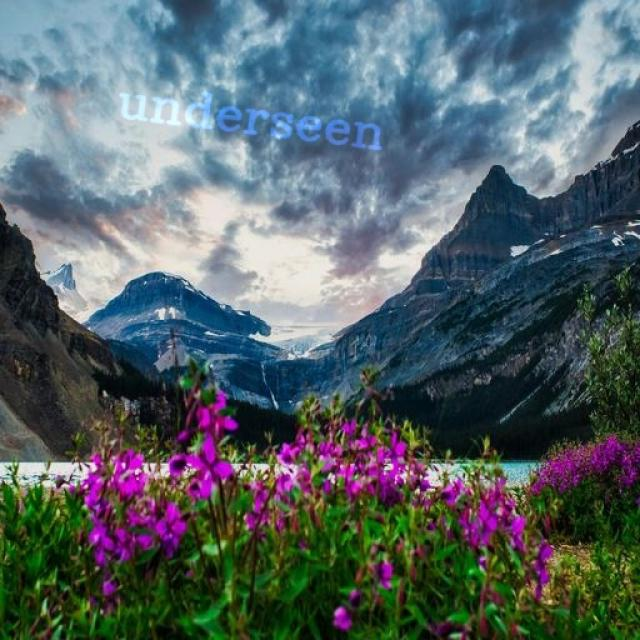watermark: (104, 81, 417, 157)
